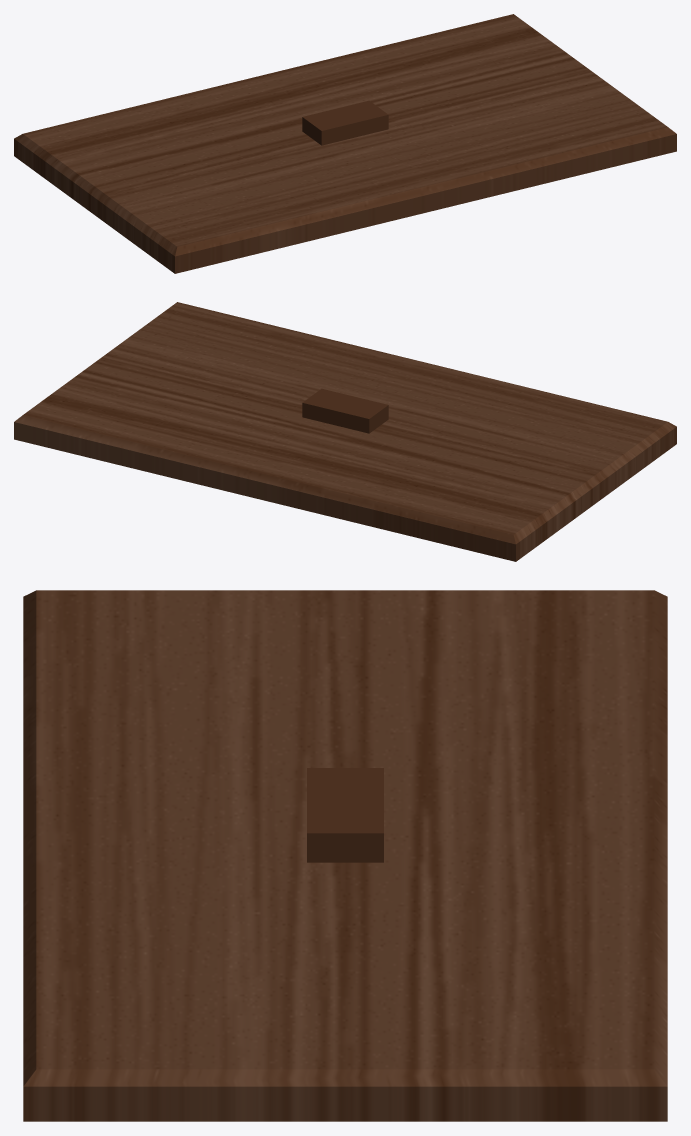
File: lid_4_2.glb
The picture shows the model from 3 angles, top to bottom: view 1: azimuth 30°, elevation 25°; view 2: azimuth 150°, elevation 25°; view 3: azimuth 270°, elevation 25°; orthographic projection. The views are drawn at different scales.
Parts seen in each view (by area): view 1: lid_4_2; view 2: lid_4_2; view 3: lid_4_2.
Boxes of the visible parts, <box> form: lid_4_2: <box>14,14,676,273</box>; lid_4_2: <box>14,302,676,561</box>; lid_4_2: <box>23,590,667,1121</box>.
Bounding box in the file's own units: 0.18 × 0.013 × 0.1.
Materials: 1 (1 with a texture image).
